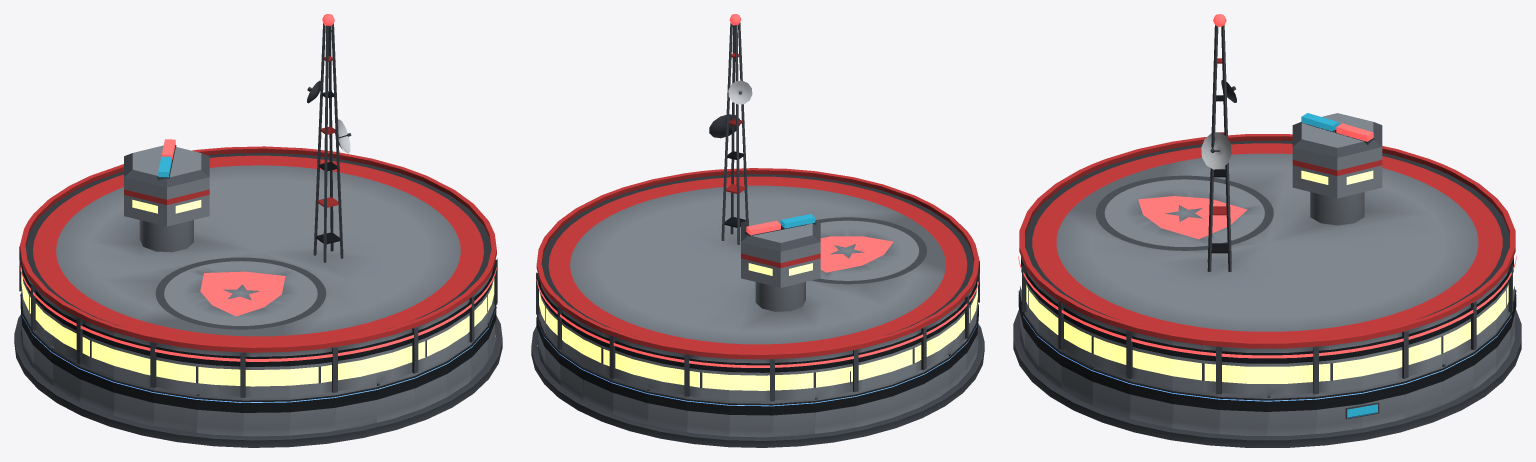
File: security_office_m.glb
3 renders of one model, left to right at view 1: azimuth 30°, elevation 25°; view 2: azimuth 150°, elevation 25°; view 3: azimuth 270°, elevation 25°, orthographic. The views are drawn at different scales.
Parts seen in each view (by area): view 1: Roof, Base, PorchTop, Upper_22, Upper_21, Upper_20, Upper_19, Wall_21, Wall_20, Wall_22, Upper_23, Upper_24 (+17 smaller); view 2: Roof, Base, PorchTop, Upper_09, Upper_10, Upper_11, Upper_12, Wall_10, Wall_11, Upper_08, Wall_09, Upper_07 (+17 smaller); view 3: Roof, Base, PorchTop, Upper_00, Upper_31, Upper_01, Upper_30, Upper_02, Upper_29, Wall_00, Wall_31, Wall_30 (+19 smaller).
Part boxes in pixels (x1=…): Roof: x1=20, y1=23, x2=496, y2=352; Base: x1=14, y1=314, x2=502, y2=447; PorchTop: x1=19, y1=14, x2=496, y2=361; Upper_22: x1=289, y1=347, x2=335, y2=396; Upper_21: x1=243, y1=352, x2=289, y2=397; Upper_20: x1=197, y1=349, x2=242, y2=397; Upper_19: x1=152, y1=342, x2=196, y2=394; Wall_21: x1=243, y1=397, x2=289, y2=436; Wall_20: x1=196, y1=393, x2=242, y2=435; Wall_22: x1=289, y1=392, x2=335, y2=435; Upper_23: x1=334, y1=339, x2=376, y2=392; Upper_24: x1=376, y1=328, x2=416, y2=383; Roof: x1=536, y1=22, x2=979, y2=359; Base: x1=531, y1=324, x2=984, y2=447; PorchTop: x1=536, y1=14, x2=979, y2=367; Upper_09: x1=686, y1=354, x2=729, y2=400; Upper_10: x1=729, y1=358, x2=772, y2=401; Upper_11: x1=772, y1=356, x2=814, y2=401; Upper_12: x1=815, y1=350, x2=856, y2=397; Wall_10: x1=729, y1=400, x2=772, y2=437; Wall_11: x1=772, y1=398, x2=815, y2=436; Upper_08: x1=648, y1=347, x2=687, y2=396; Wall_09: x1=686, y1=396, x2=729, y2=436; Upper_07: x1=611, y1=336, x2=648, y2=387; Roof: x1=1019, y1=25, x2=1515, y2=348; Base: x1=1013, y1=309, x2=1521, y2=447; PorchTop: x1=1018, y1=14, x2=1516, y2=358; Upper_00: x1=1267, y1=346, x2=1316, y2=395; Upper_31: x1=1218, y1=346, x2=1267, y2=395; Upper_01: x1=1316, y1=341, x2=1362, y2=393; Upper_30: x1=1172, y1=341, x2=1218, y2=393; Upper_02: x1=1362, y1=331, x2=1406, y2=387; Upper_29: x1=1128, y1=331, x2=1172, y2=387; Wall_00: x1=1267, y1=393, x2=1315, y2=435; Wall_31: x1=1219, y1=393, x2=1267, y2=435; Wall_30: x1=1172, y1=388, x2=1219, y2=433.
Size of the model in its own units: 14.75 by 11.22 by 14.75.
